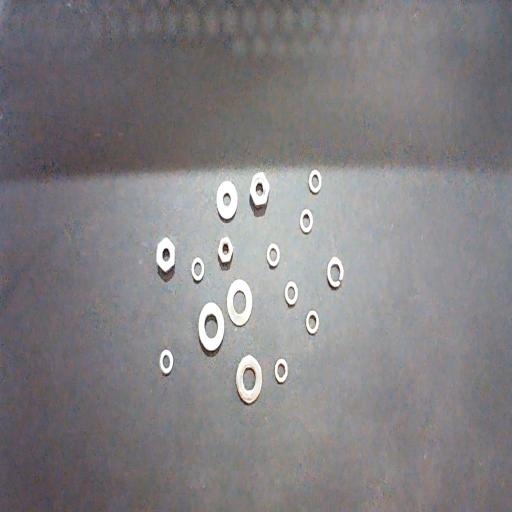nut: (250, 170, 270, 208), (156, 236, 176, 274), (218, 235, 234, 265)
washer: (226, 278, 253, 329), (236, 354, 262, 406), (198, 301, 224, 352), (216, 179, 238, 222), (327, 255, 344, 290), (190, 256, 205, 284), (284, 280, 299, 308), (159, 349, 174, 376), (305, 309, 320, 336), (299, 208, 314, 235), (308, 168, 322, 196), (266, 242, 280, 269), (274, 358, 288, 384)
